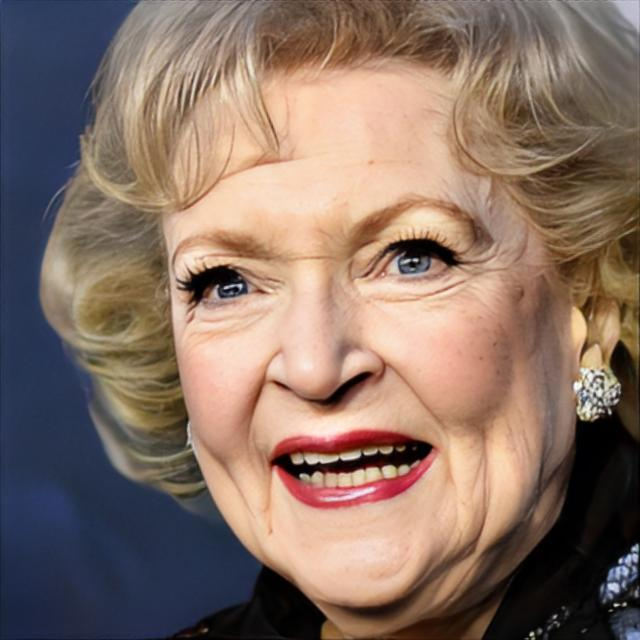anger: (168, 43, 568, 611)
